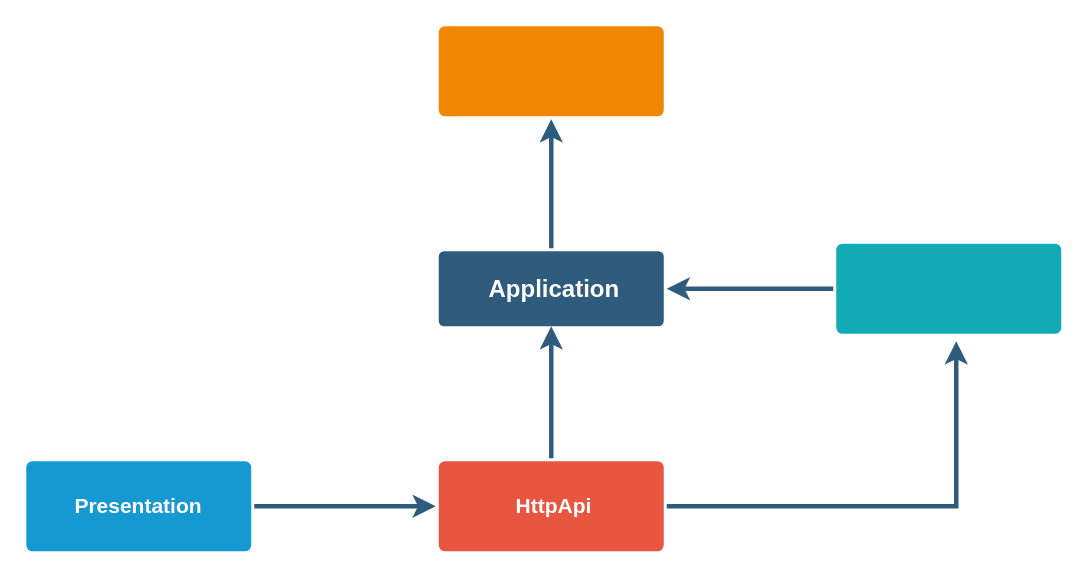
Image size: 1086x576. Some labels were removed from this diagram. Here are the shapes that lost their labels. From the top down, the box of each, then its label:
(438, 26, 663, 116): Domain
(836, 243, 1060, 333): Infrastructure
